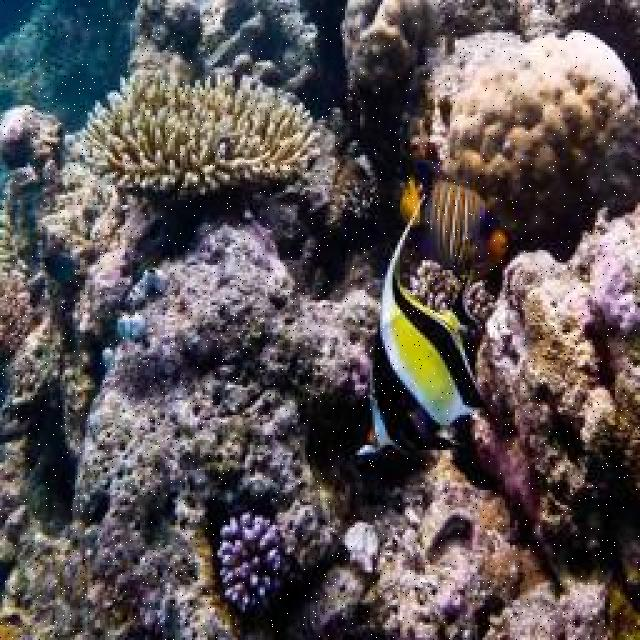fish: (359, 194, 498, 453), (401, 178, 506, 279)
reefs: (0, 221, 382, 638), (473, 209, 638, 535), (362, 454, 616, 638), (438, 33, 638, 245), (1, 105, 163, 335), (80, 70, 325, 193), (340, 0, 590, 98), (131, 2, 321, 72), (296, 130, 384, 223), (217, 512, 287, 611), (1, 201, 37, 360), (412, 258, 495, 316), (308, 568, 366, 627), (340, 521, 378, 576), (128, 266, 170, 309), (115, 311, 146, 339)
